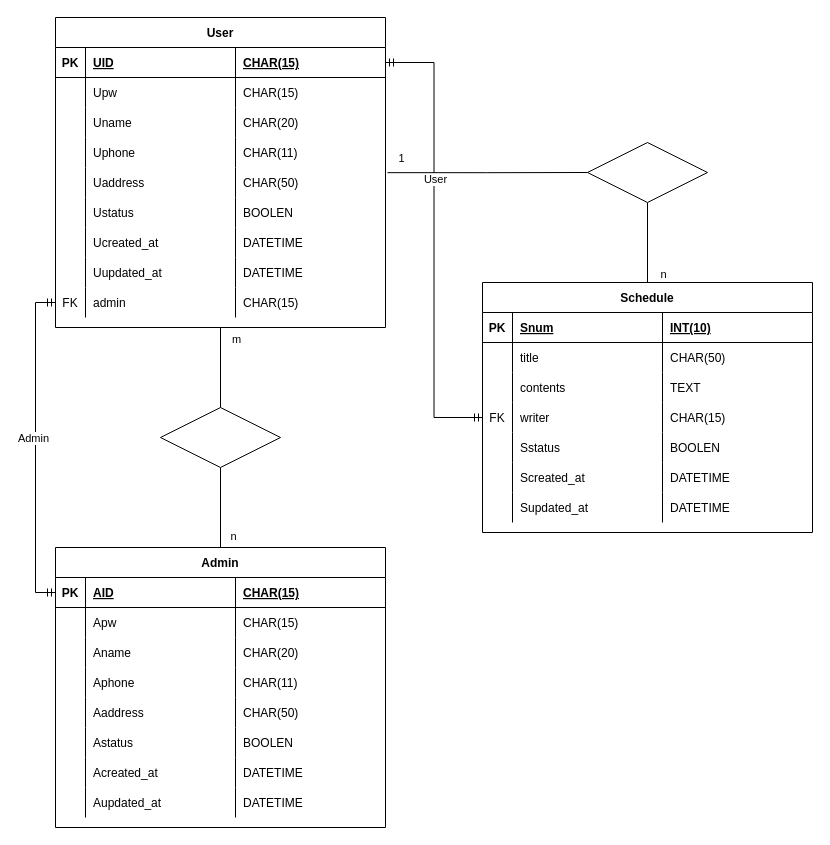
Image size: 830x845. Some labels were removed from this diagram. The centre of each missing label's shape, as x and y in pixels:
"MANAGE" goes at point 220,437.
"WRITE" goes at point 647,172.
